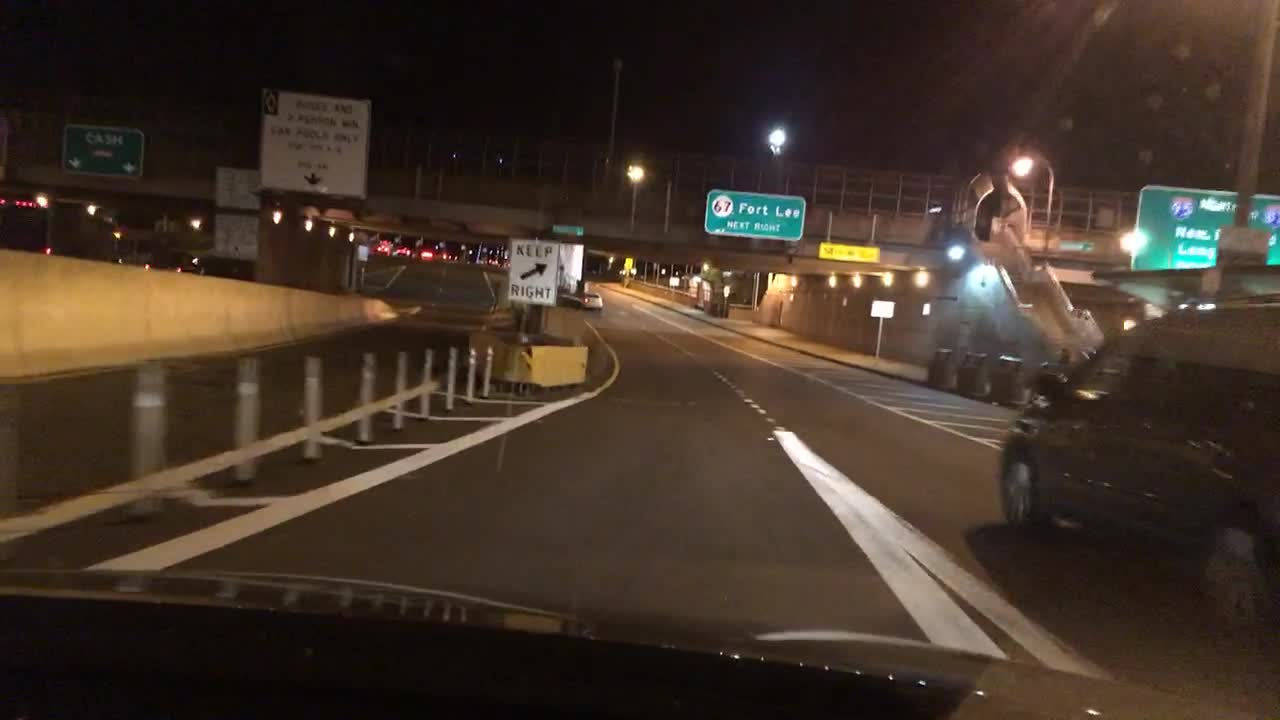car: (997, 293, 1279, 633), (141, 252, 206, 276), (579, 290, 604, 312), (370, 241, 389, 255), (393, 244, 410, 258), (417, 249, 433, 258)
traffic sign: (257, 81, 368, 199), (1130, 184, 1277, 273), (703, 185, 803, 241), (60, 120, 143, 178), (507, 236, 554, 305), (213, 214, 258, 261), (215, 167, 260, 207), (817, 240, 880, 264), (870, 295, 892, 319), (552, 224, 583, 235), (621, 256, 633, 268), (667, 276, 679, 285), (722, 284, 729, 296)
truck: (0, 195, 122, 264)
